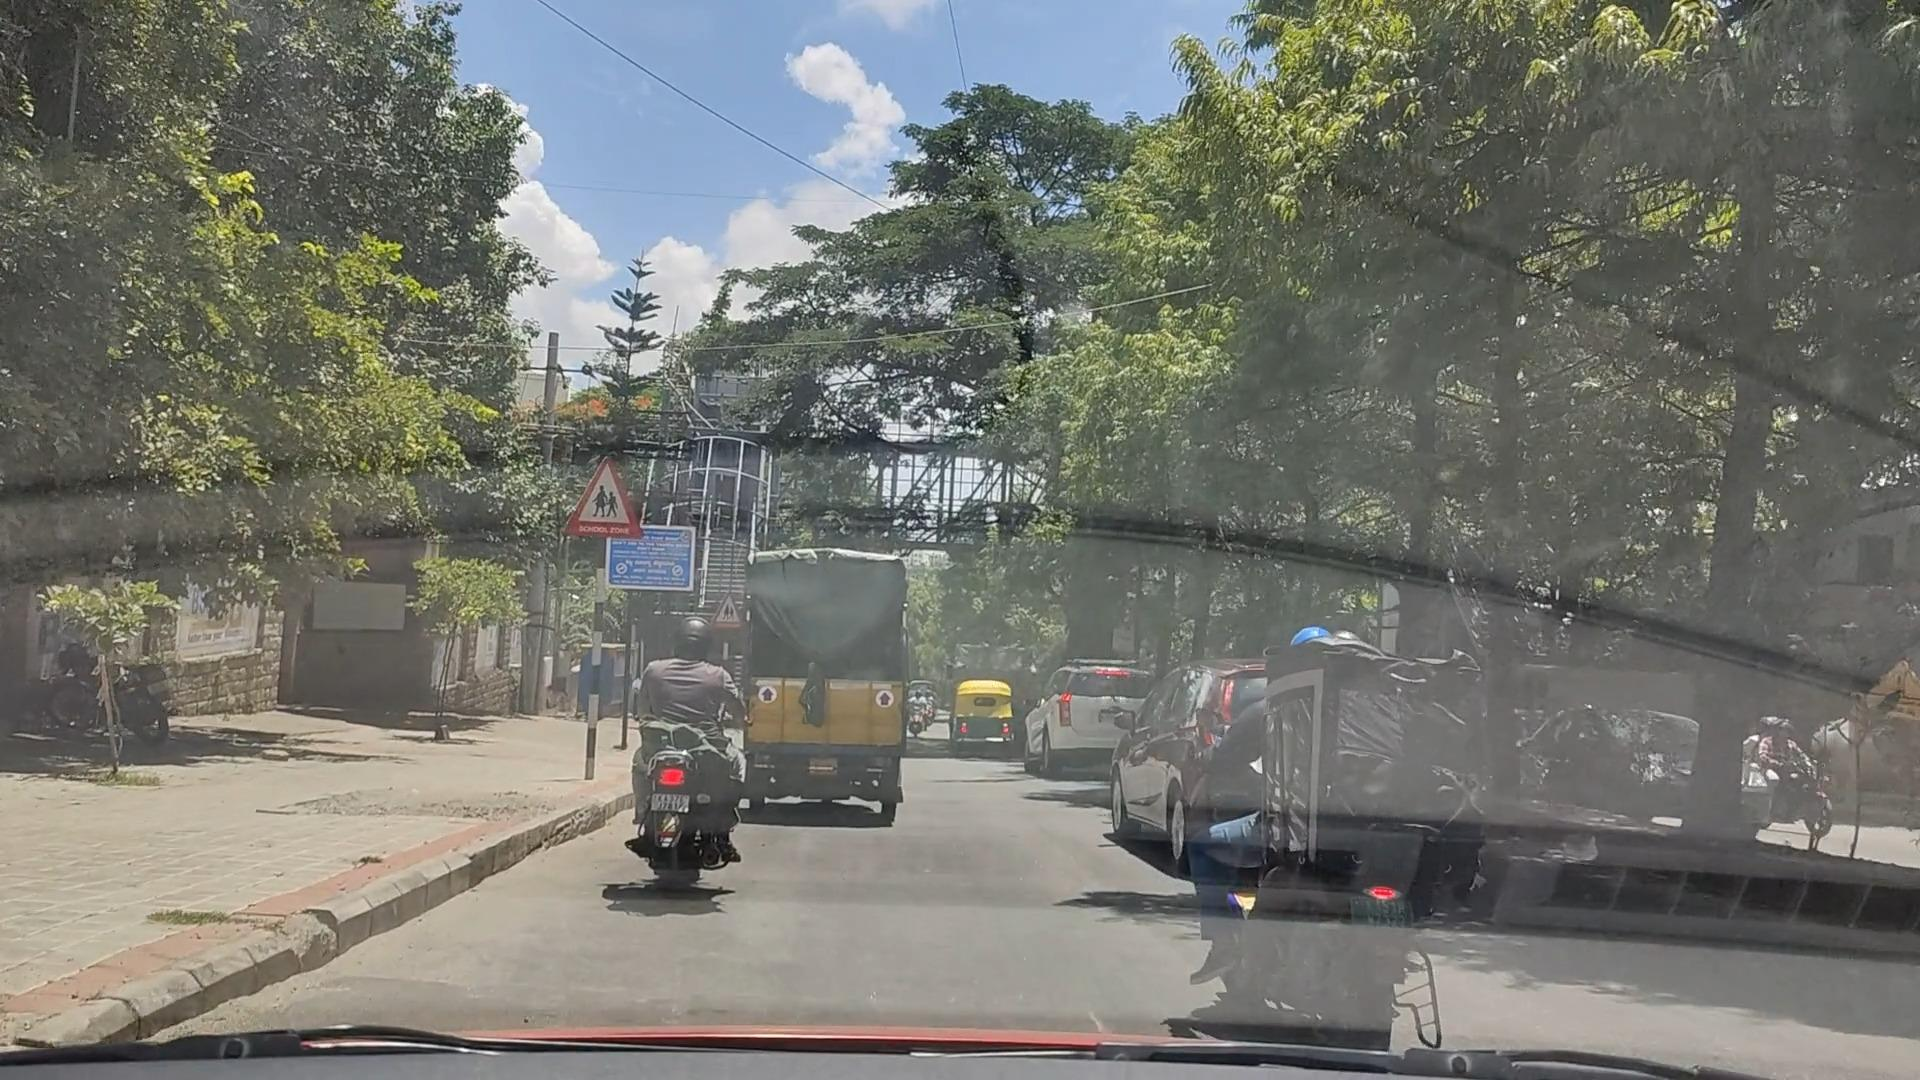HMV: (728, 533, 916, 819)
LMV: (1188, 583, 1569, 1080)
